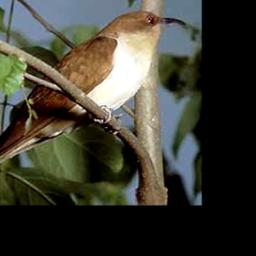Cuckoo: (0, 8, 188, 192)
